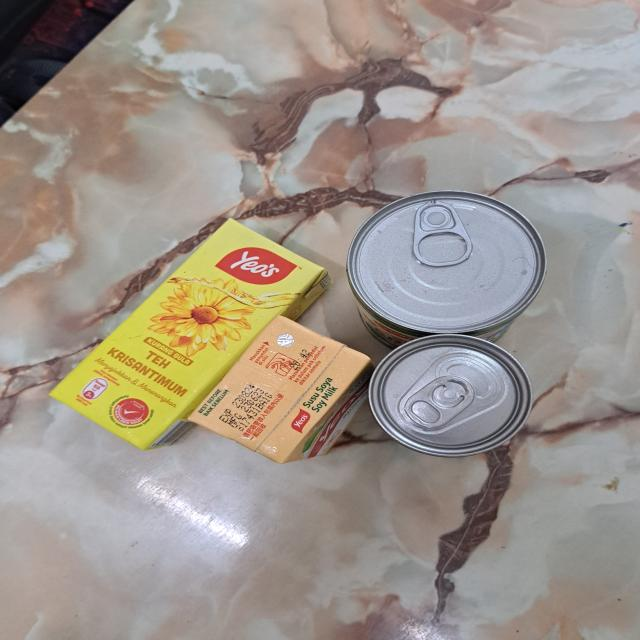can: (350, 188, 548, 350), (366, 333, 535, 459)
drink carton: (47, 214, 330, 450), (187, 314, 374, 462)
pop tab: (408, 202, 474, 270), (401, 373, 475, 431)
